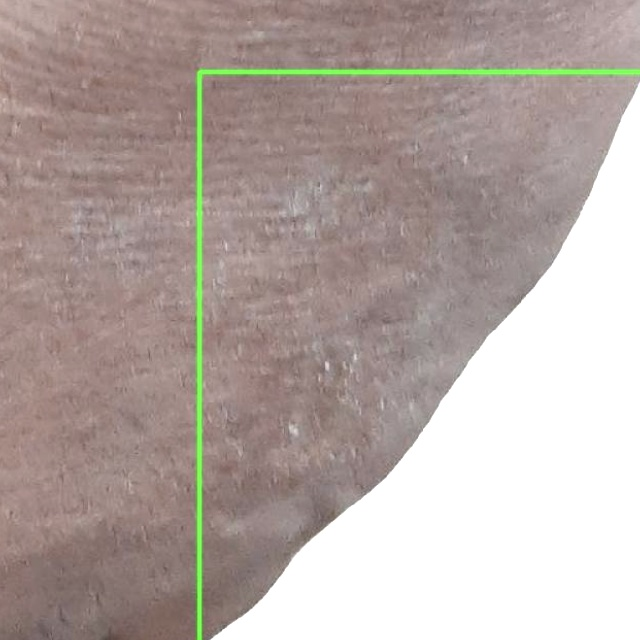Tinea Corporis: (199, 71, 639, 639)
